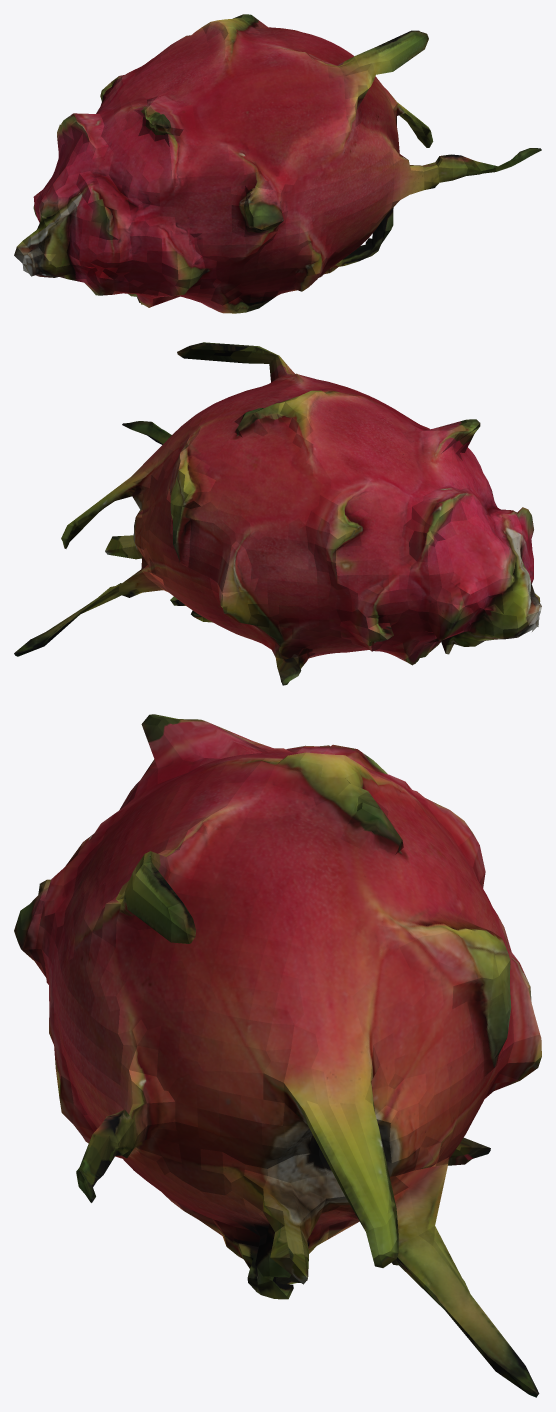
Rendered from fruit_dragon.glb.
The picture shows the model from 3 angles, top to bottom: view 1: azimuth 30°, elevation 25°; view 2: azimuth 150°, elevation 25°; view 3: azimuth 270°, elevation 25°; orthographic projection. The views are drawn at different scales.
Visible parts, largest first — view 1: LP_DragonFruit; view 2: LP_DragonFruit; view 3: LP_DragonFruit.
Boxes of the visible parts, x1,y1,x2,y2 form: LP_DragonFruit: [14, 14, 541, 313]; LP_DragonFruit: [14, 342, 541, 685]; LP_DragonFruit: [14, 714, 541, 1397].
Bounding box in the file's own units: 26.67 × 14.62 × 15.36.
Materials: 1 (1 with a texture image).
